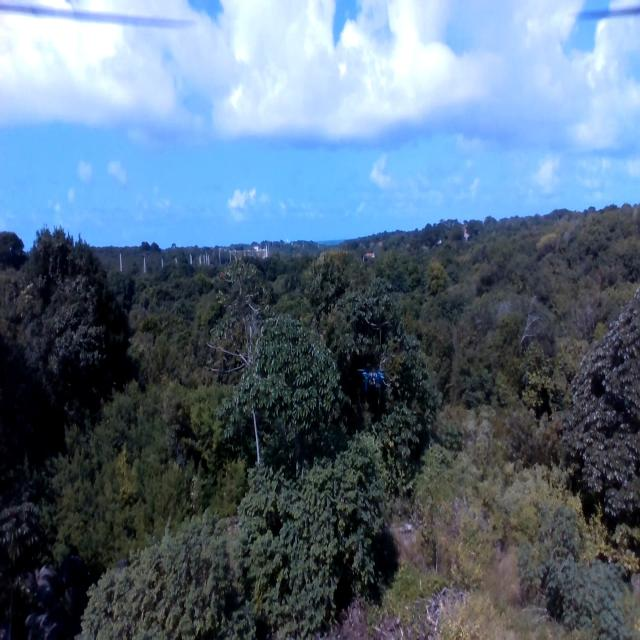-uav-: (355, 352, 394, 409)
